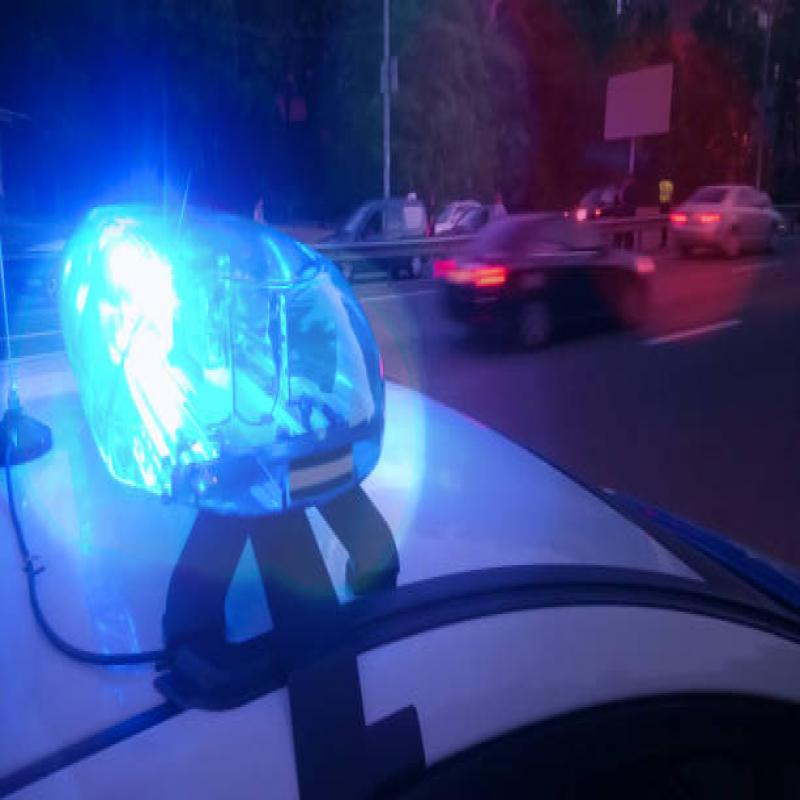AmbulanceSiren: (78, 159, 384, 537)
